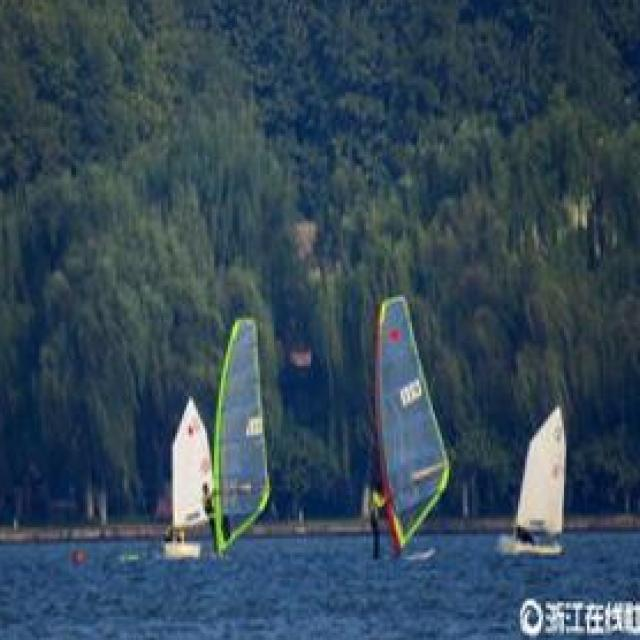sailboat: (353, 298, 462, 576), (174, 321, 264, 577), (487, 404, 592, 566)
